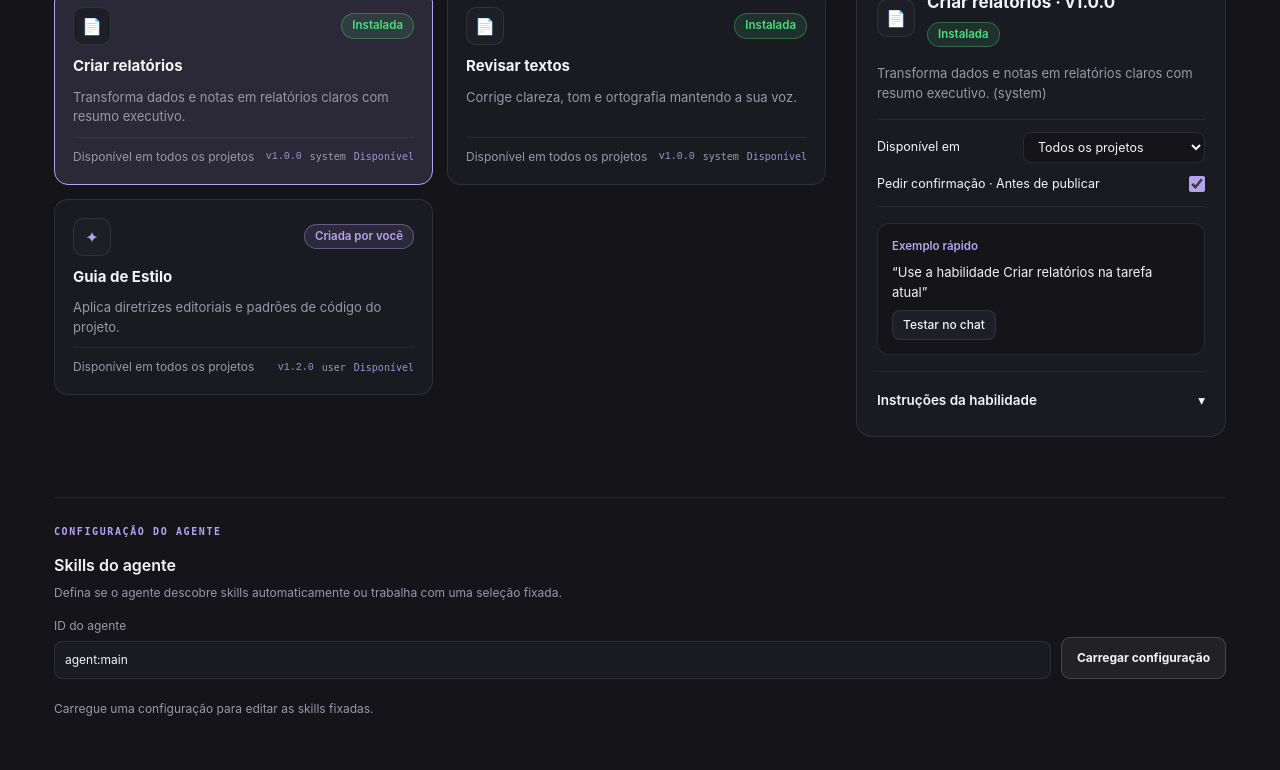
Scenario: SkillsPage Phase 6 (ref-12.png) › updates the inspector and collapses instructions accordion when selecting another card
(page scrolled)
Expected: the link "Criar relatórios" is shown, [73,56,182,75]
What coordinates should you click on to do the following:
click the button "Instruções da habilidade ▾"
I would click on:
 (957, 400)
Its box is [877,384,1205,416].
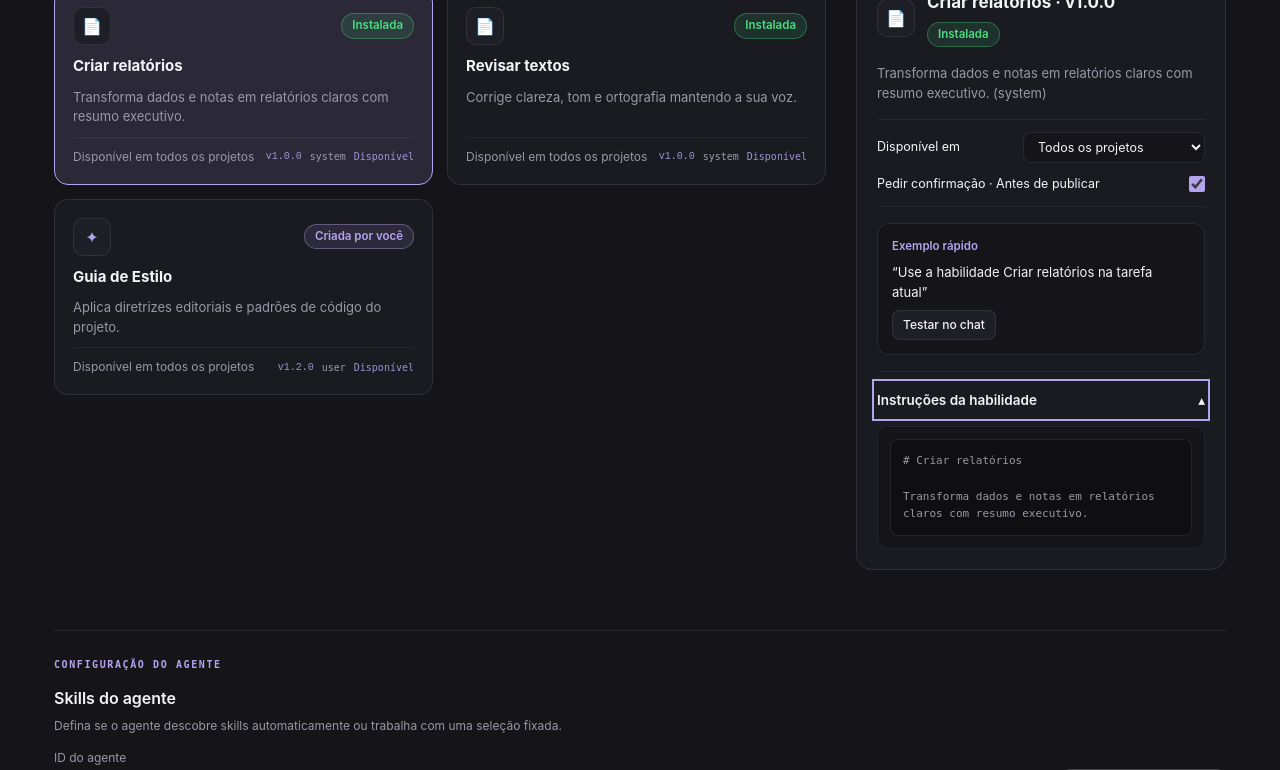
What coordinates should you click on to do the following:
click the element with class "skill-card-v6" that starts with "Criada por você"
I would click on:
 (244, 297)
Its box is [54,198,433,395].
(page scrolled)
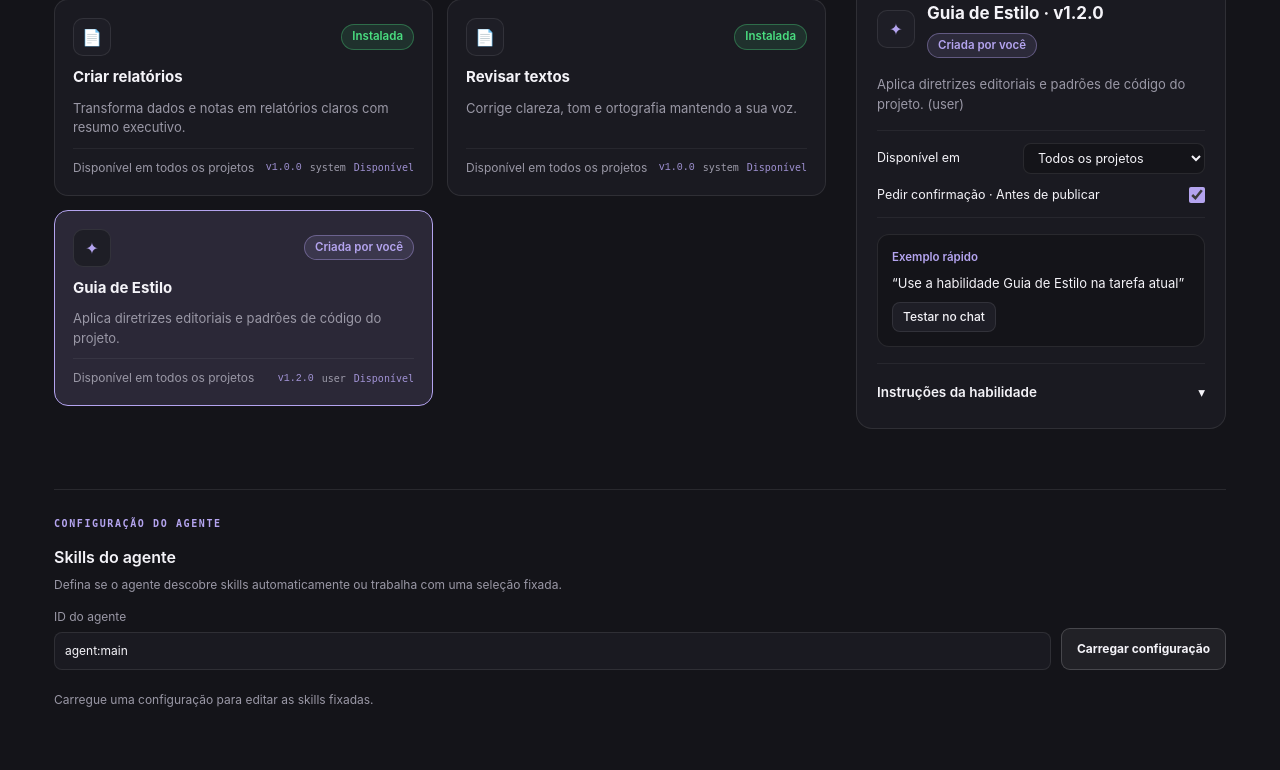
Expected: the heading "Guia de Estilo · v1.2.0" is shown, [927,1,1104,26]
Expected: the text "Criada por você" below "Guia de Estilo · v1.2.0" is shown, [938,38,1026,52]
Expected: the text "Aplica diretrizes editoriais e padrões de código do projeto." is shown, [877,76,1185,112]
